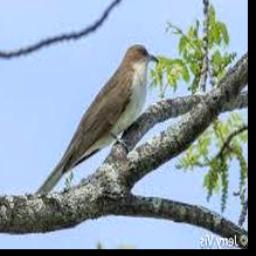Cuckoo: (34, 44, 159, 195)
